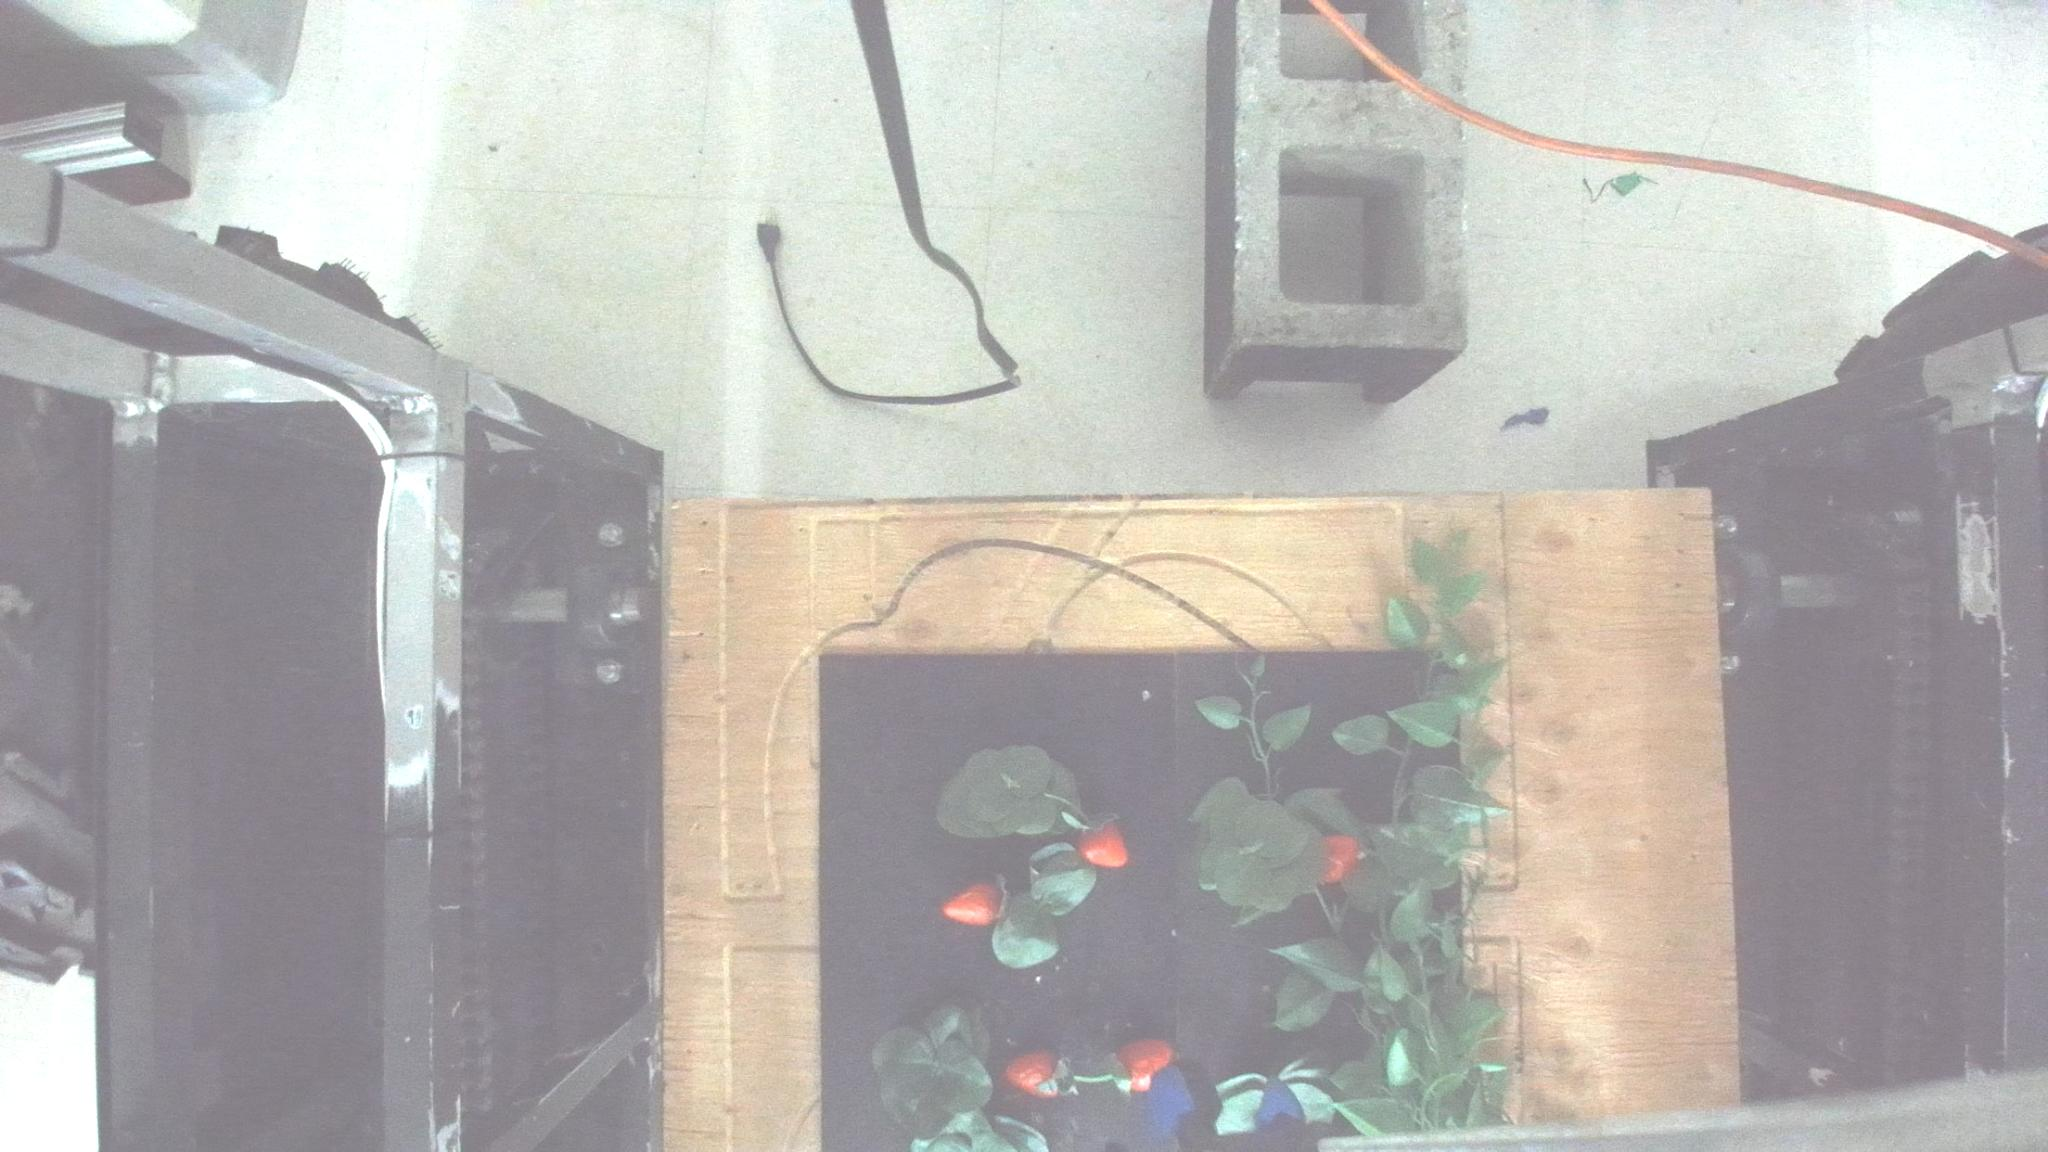strawberry: (1121, 1038, 1180, 1090), (941, 879, 1004, 927), (1075, 819, 1128, 871), (1004, 1055, 1063, 1099), (1318, 833, 1360, 886)
